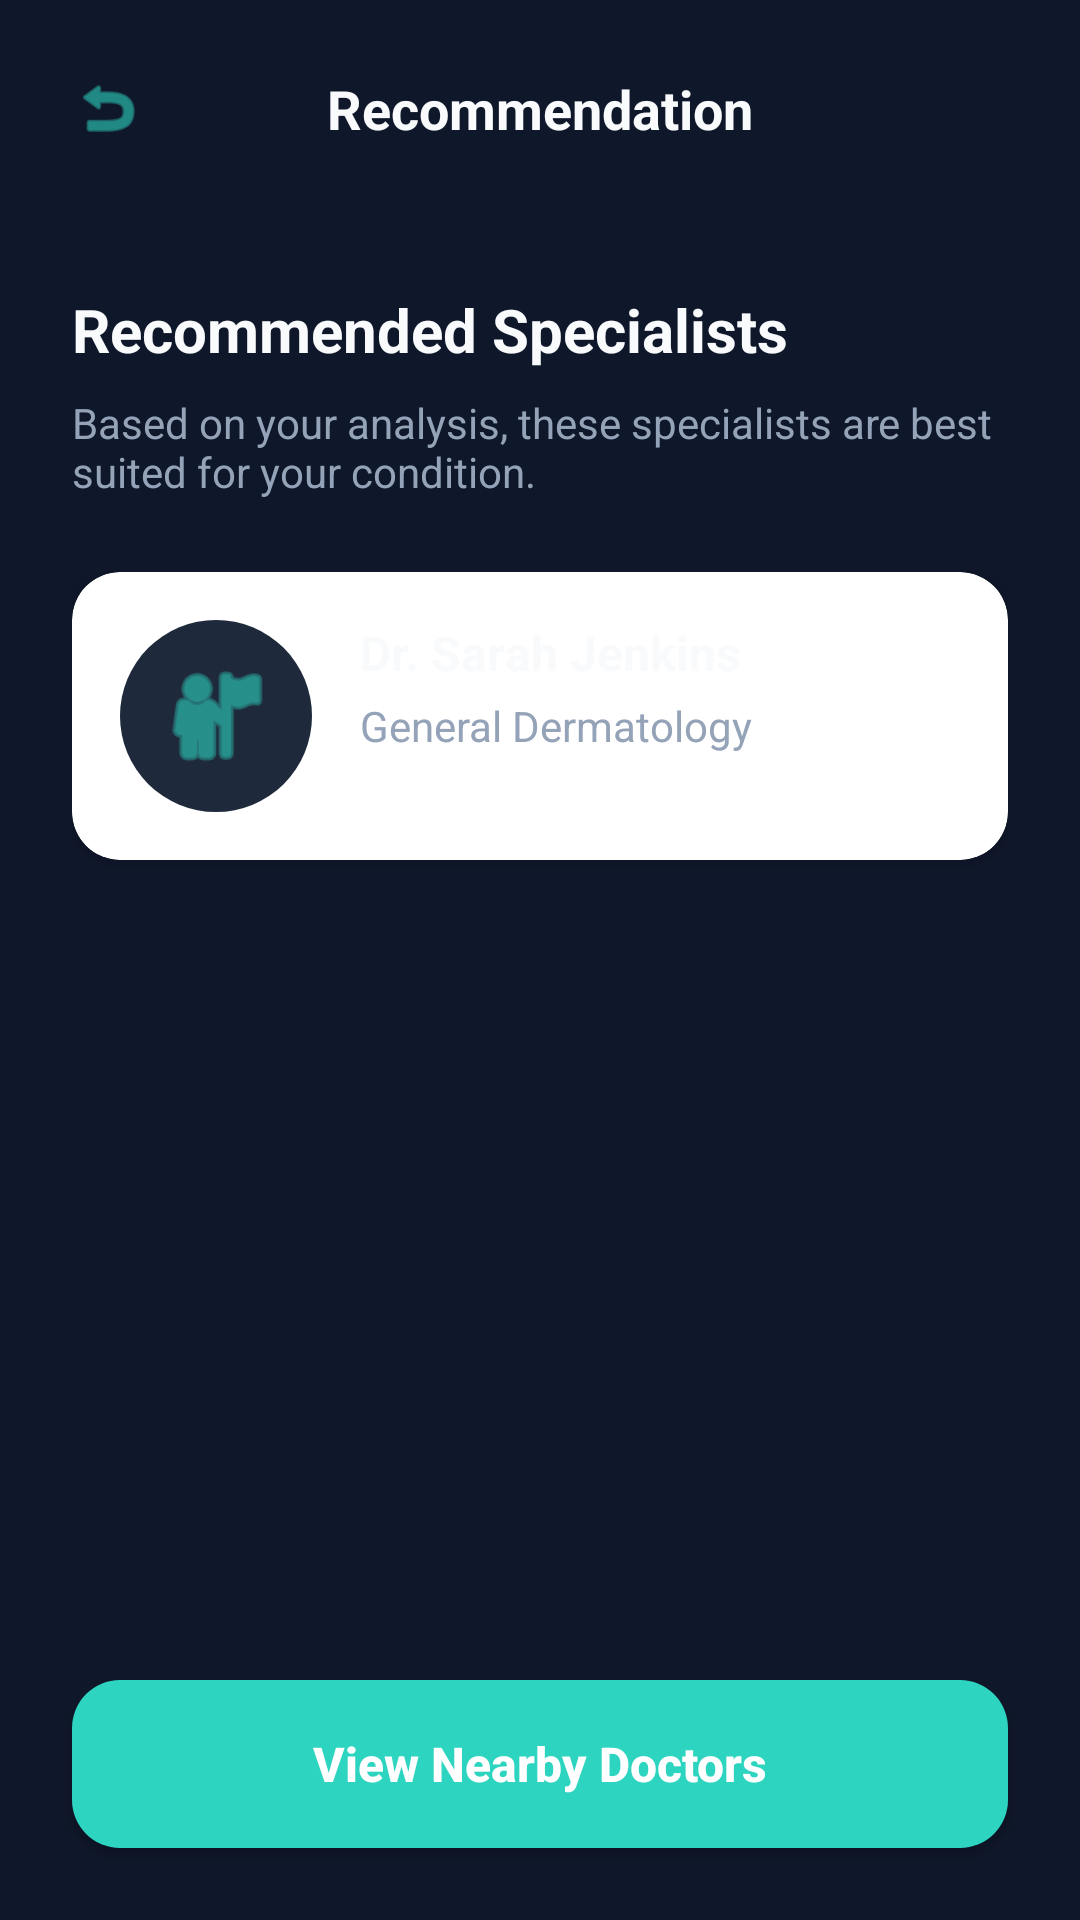

Icon click points for this 1080×1920 phone screenshot, format point (x, y):
myplaces: point (216, 716)
revert: point (109, 108)
